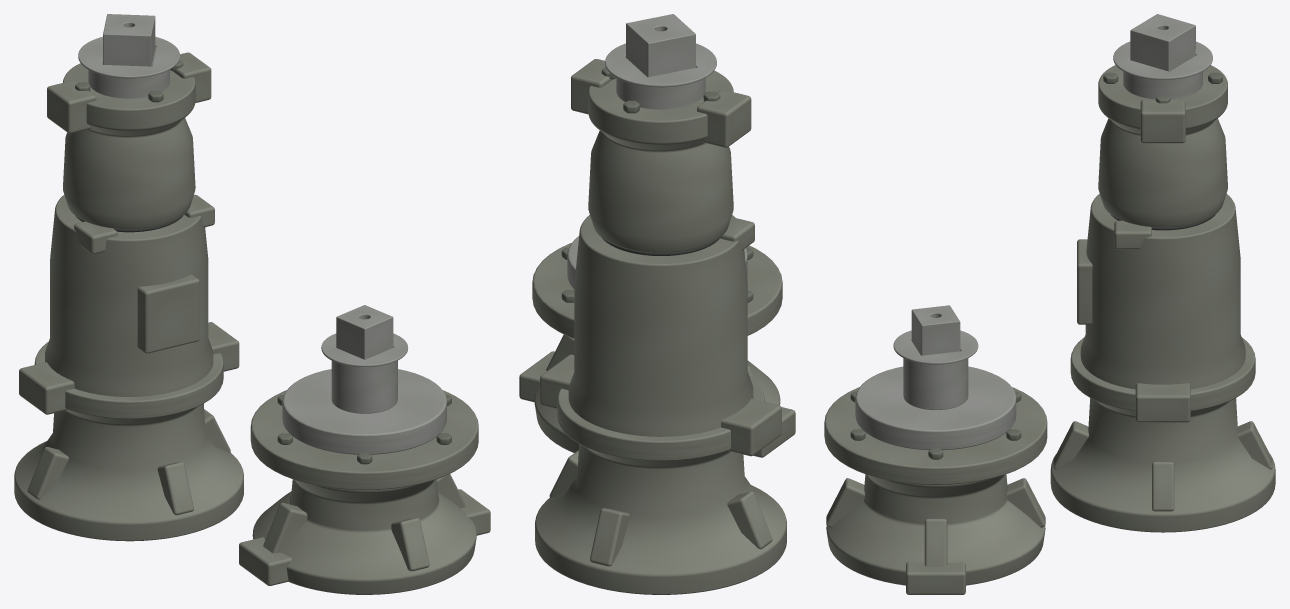
File: BrakeValves_without_handles.fbx
3 views of the same model, side by side, from view 1: azimuth 30°, elevation 25°; view 2: azimuth 150°, elevation 25°; view 3: azimuth 270°, elevation 25° (orthographic). The views are drawn at different scales.
Parts seen in each view (by area): view 1: Tall_Lower_Casting, Short_Lower_Casting, Tall_Upper_Casting, Short_Flange, Short_Cover, Short_Exposed_Spindle, Tall_Exposed_Spindle, Tall_Front_Cast_Boss, Tall_Lower_Flange, Tall_Shoulder_Washer, Tall_Lower_Flange_Ear_1, Tall_Cap_Ear_1 (+10 smaller); view 2: Tall_Lower_Casting, Tall_Upper_Casting, Tall_Exposed_Spindle, Short_Flange, Tall_Lower_Flange, Tall_Lower_Flange_Ear_1, Tall_Cap_Ear_1, Tall_Shoulder_Washer, Short_Lower_Casting, Tall_Foot_Rib_1, Tall_Foot_Rib_2, Tall_Cap_Ear_0 (+8 smaller); view 3: Tall_Lower_Casting, Short_Lower_Casting, Tall_Upper_Casting, Short_Flange, Short_Cover, Short_Exposed_Spindle, Tall_Exposed_Spindle, Tall_Lower_Flange, Tall_Lower_Flange_Ear_0, Tall_Cap_Ear_0, Short_Mounting_Lug_0.042, Tall_Shoulder_Washer (+9 smaller).
Part boxes in pixels (<box>): Tall_Lower_Casting: <box>14,195,243,541</box>; Short_Lower_Casting: <box>252,479,476,594</box>; Tall_Upper_Casting: <box>63,63,195,229</box>; Short_Flange: <box>250,390,478,490</box>; Short_Cover: <box>282,369,446,454</box>; Short_Exposed_Spindle: <box>331,305,397,413</box>; Tall_Exposed_Spindle: <box>88,14,169,98</box>; Tall_Front_Cast_Boss: <box>137,274,199,353</box>; Tall_Lower_Flange: <box>34,342,223,419</box>; Tall_Shoulder_Washer: <box>78,36,180,78</box>; Tall_Lower_Flange_Ear_1: <box>19,362,74,414</box>; Tall_Cap_Ear_1: <box>47,80,96,133</box>; Tall_Lower_Casting: <box>535,215,786,594</box>; Tall_Upper_Casting: <box>588,70,733,252</box>; Tall_Exposed_Spindle: <box>616,14,705,109</box>; Short_Flange: <box>532,243,782,338</box>; Tall_Lower_Flange: <box>557,376,764,460</box>; Tall_Lower_Flange_Ear_1: <box>721,398,781,456</box>; Tall_Cap_Ear_1: <box>697,89,751,147</box>; Tall_Shoulder_Washer: <box>605,43,716,87</box>; Short_Lower_Casting: <box>534,360,780,452</box>; Tall_Foot_Rib_1: <box>590,508,629,566</box>; Tall_Foot_Rib_2: <box>727,491,772,549</box>; Tall_Cap_Ear_0: <box>571,59,612,114</box>; Tall_Lower_Casting: <box>1050,193,1275,532</box>; Short_Lower_Casting: <box>826,474,1045,585</box>; Tall_Upper_Casting: <box>1098,65,1227,227</box>; Short_Flange: <box>824,387,1047,484</box>; Short_Cover: <box>855,366,1016,450</box>; Short_Exposed_Spindle: <box>903,305,968,409</box>; Tall_Exposed_Spindle: <box>1123,14,1202,99</box>; Tall_Lower_Flange: <box>1070,337,1255,411</box>; Tall_Lower_Flange_Ear_0: <box>1135,383,1190,422</box>; Tall_Cap_Ear_0: <box>1140,100,1185,143</box>; Short_Mounting_Lug_0.042: <box>906,561,965,594</box>; Tall_Shoulder_Washer: <box>1113,41,1212,79</box>.
Size of the model in its own units: 14.95 by 20.25 by 18.06.
4 materials, 3 textured.
